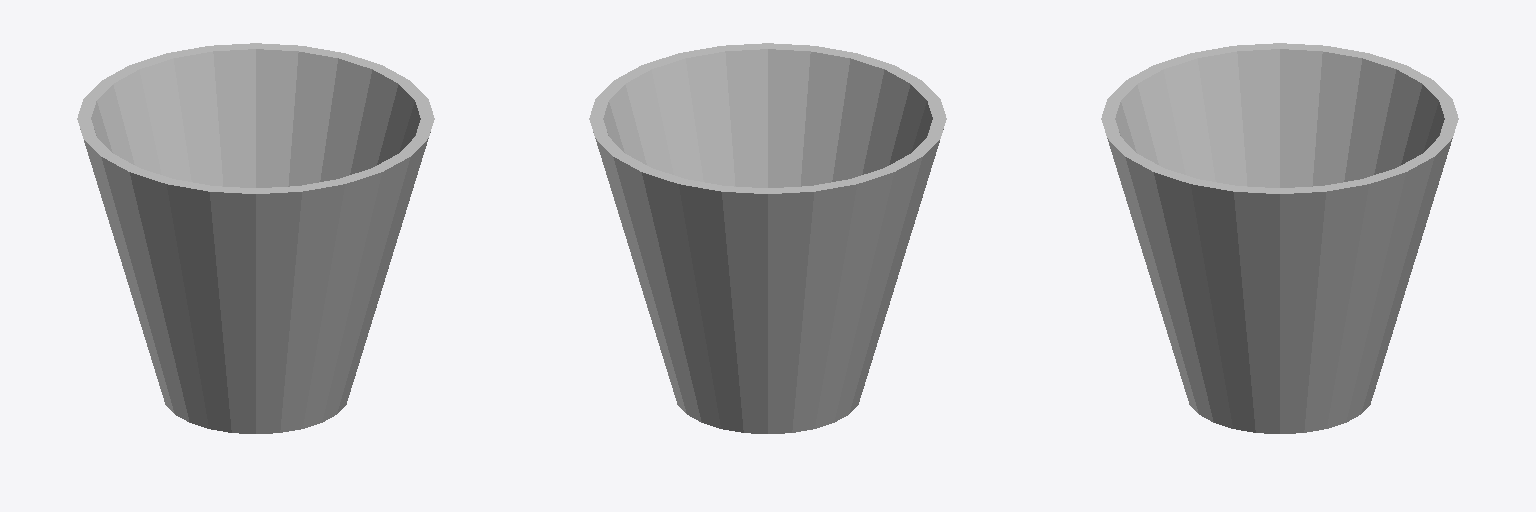
The model's file is original-1.obj.
3 renders of one model, left to right at view 1: azimuth 30°, elevation 25°; view 2: azimuth 150°, elevation 25°; view 3: azimuth 270°, elevation 25°, orthographic.
Visible parts, largest first — view 1: Group2/mesh1/mesh1-geometry#mesh1-geometry; view 2: Group2/mesh1/mesh1-geometry#mesh1-geometry; view 3: Group2/mesh1/mesh1-geometry#mesh1-geometry.
Part boxes in pixels (bbox=[...]): Group2/mesh1/mesh1-geometry#mesh1-geometry: bbox=[77, 43, 434, 433]; Group2/mesh1/mesh1-geometry#mesh1-geometry: bbox=[589, 43, 946, 433]; Group2/mesh1/mesh1-geometry#mesh1-geometry: bbox=[1101, 43, 1458, 433].
Bounding box in the file's own units: 1.14 × 0.9747 × 1.14.